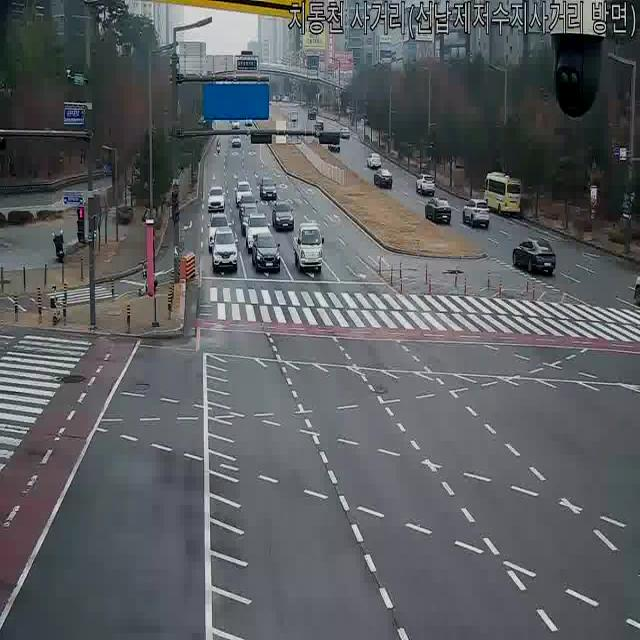Bus: (483, 172, 523, 216)
Car: (512, 238, 556, 276), (210, 228, 238, 274), (251, 233, 281, 274), (244, 213, 272, 252), (206, 212, 232, 250), (462, 198, 490, 228), (424, 197, 452, 224), (271, 201, 295, 231), (240, 207, 262, 235), (239, 193, 259, 221), (207, 185, 225, 213), (235, 180, 253, 208), (258, 178, 278, 202), (416, 172, 436, 195), (374, 168, 392, 189), (633, 271, 640, 313), (366, 153, 382, 170), (328, 133, 340, 153), (244, 112, 256, 128), (230, 116, 242, 132), (338, 127, 351, 140), (314, 120, 324, 136), (231, 134, 241, 148), (307, 108, 317, 120), (290, 110, 298, 123)
Motorcycle: (215, 137, 221, 155)
Truck: (293, 221, 325, 273)
